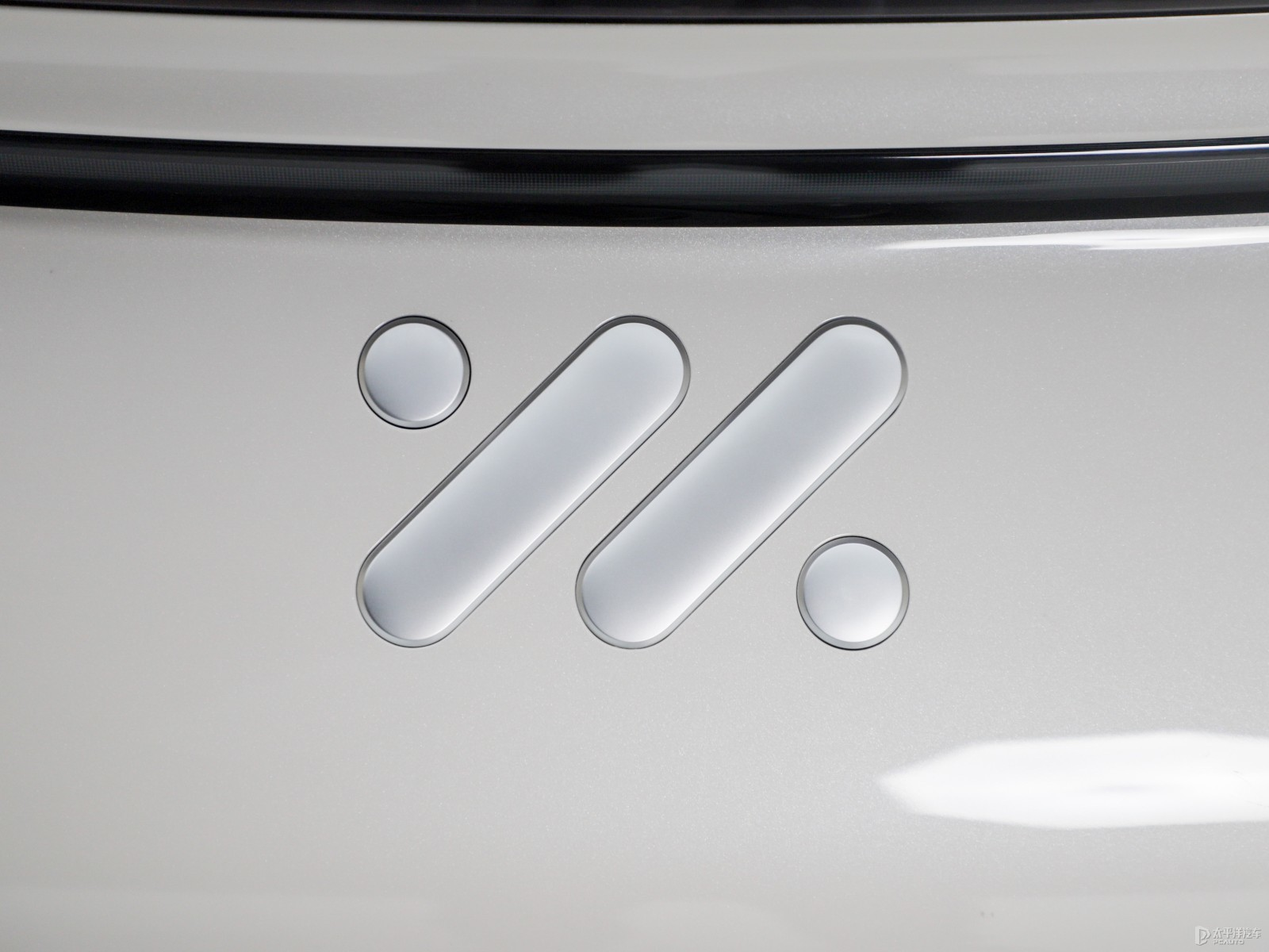IM: (358, 318, 905, 650)
